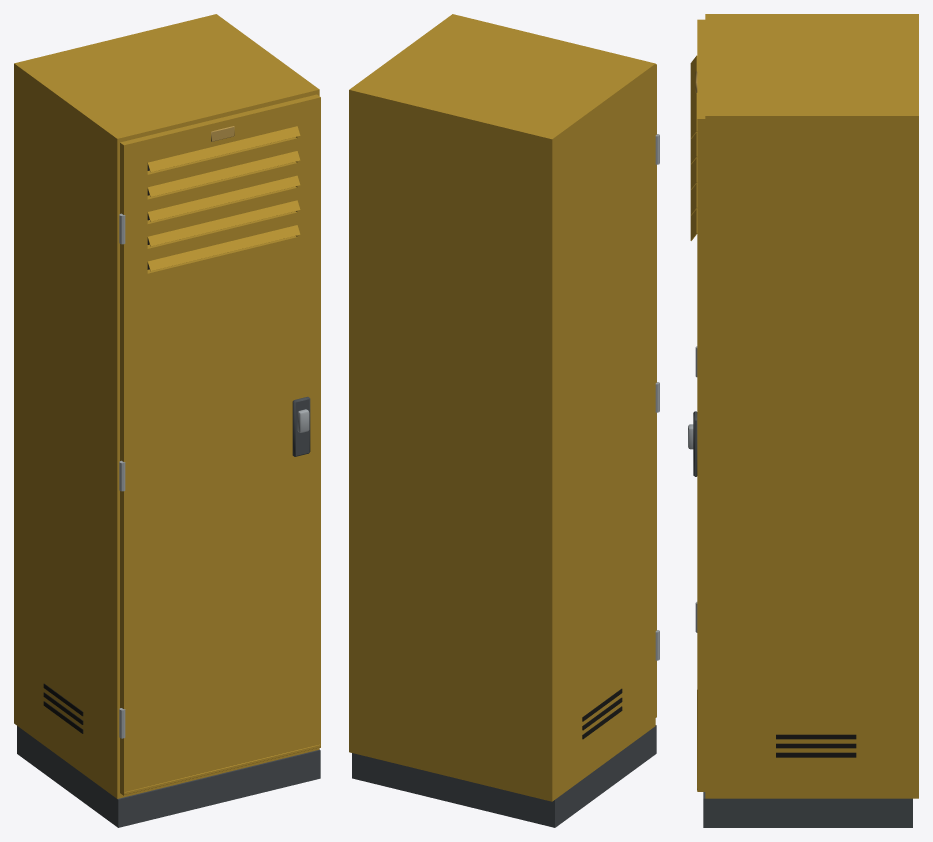
File: school_locker.glb
3 renders of one model, left to right at view 1: azimuth 30°, elevation 25°; view 2: azimuth 150°, elevation 25°; view 3: azimuth 270°, elevation 25°, orthographic. The views are drawn at different scales.
Parts seen in each view (by area): view 1: Door, LockerBody; view 2: LockerBody, Door; view 3: LockerBody, Door.
Boxes of the visible parts, x1,y1,x2,y2 form: Door: (119,94,320,795); LockerBody: (14,14,320,827); LockerBody: (349,14,656,827); Door: (655,64,659,717); LockerBody: (703,14,918,827); Door: (688,19,705,791).
Size of the model in its own units: 0.604 by 1.95 by 0.573.
